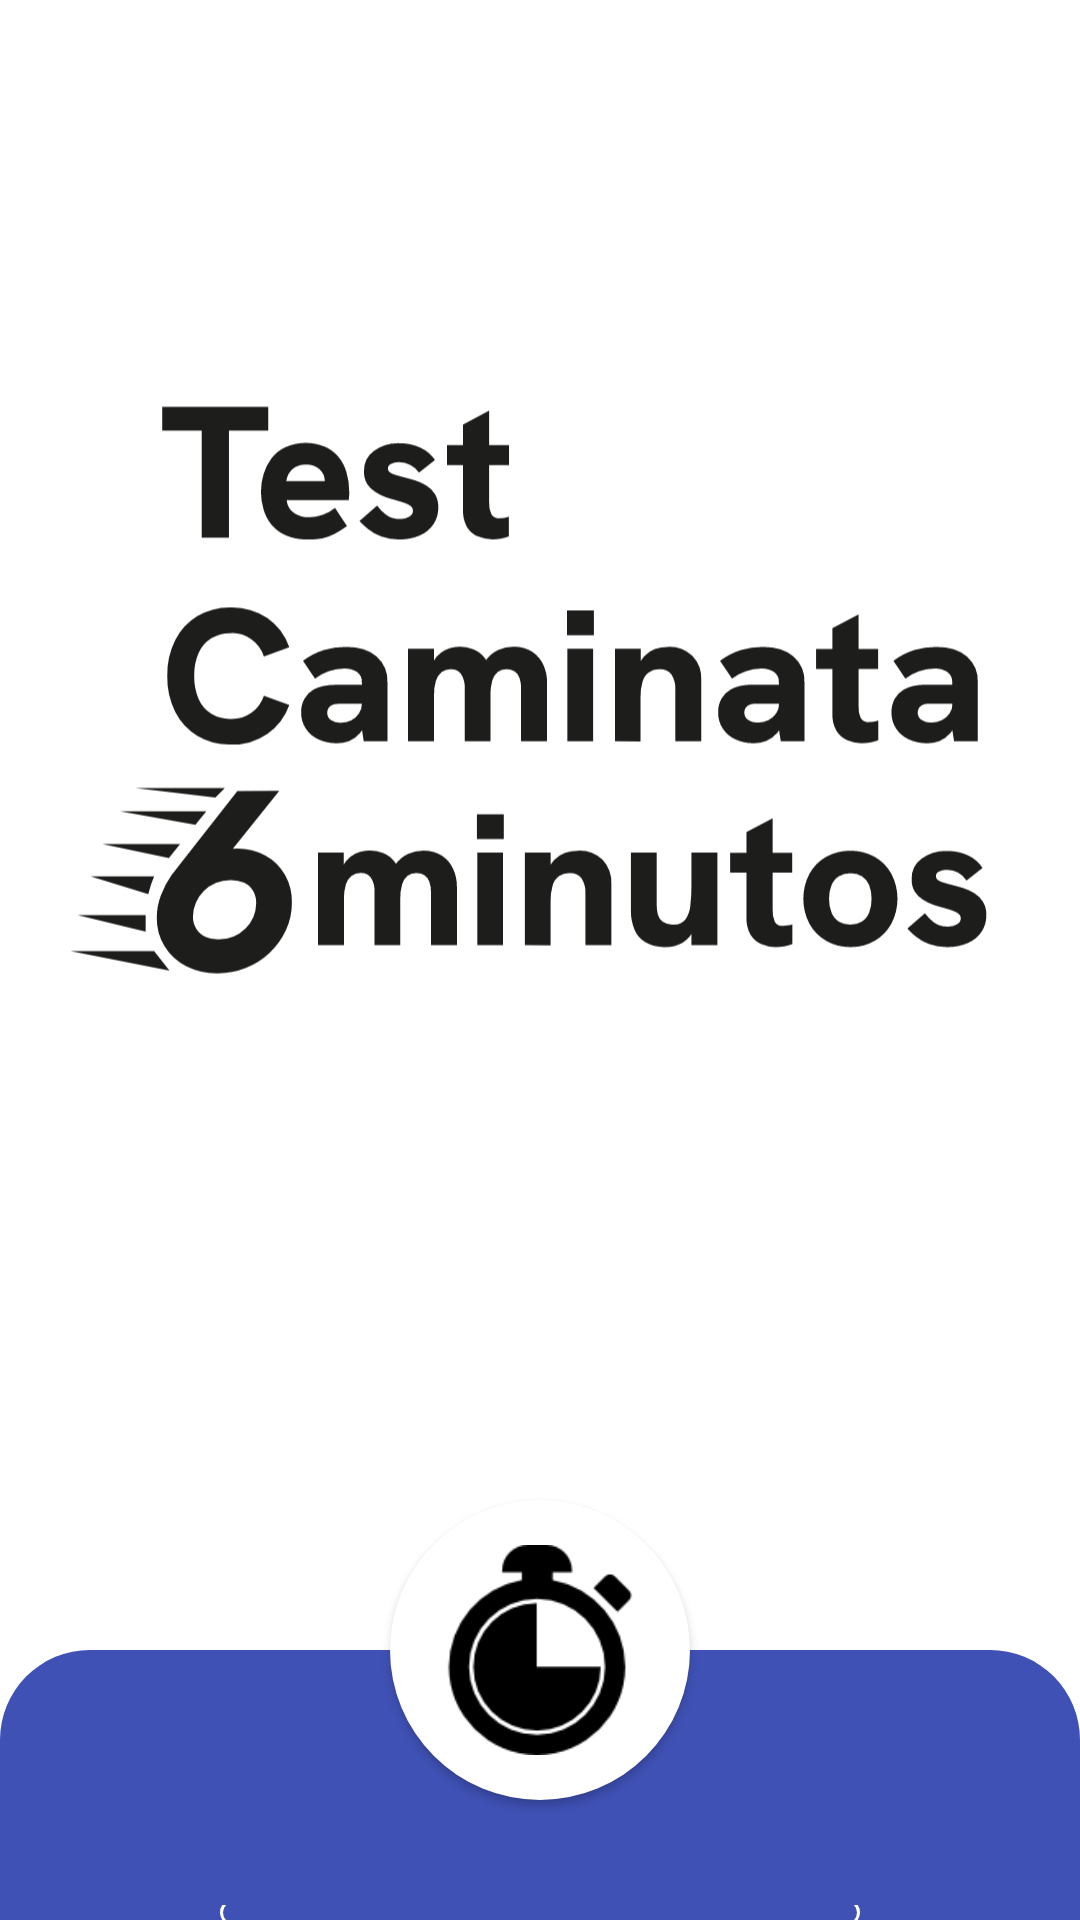

Screen size 1080px x 1920px. Icon name, then its center in pixels as point (x, y):
cronometro: point (540, 1650)
